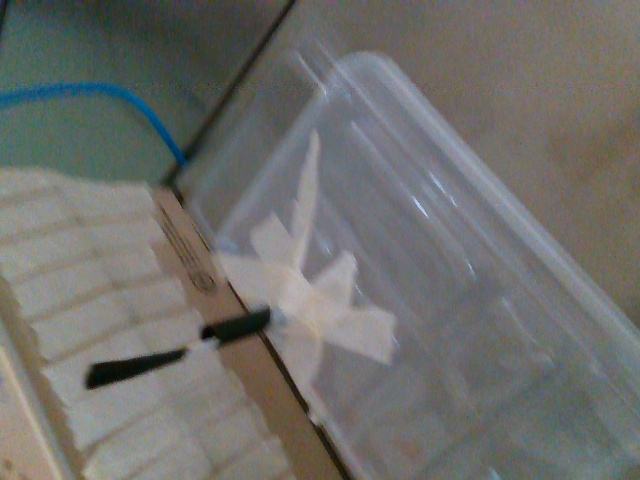test_strip: (81, 337, 213, 389)
